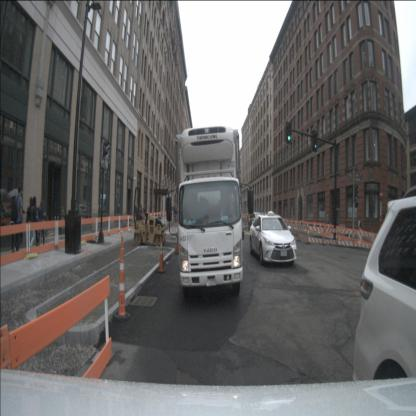human-pedestrian-adult: (11, 185, 24, 253), (10, 195, 21, 253), (26, 197, 37, 250), (37, 199, 46, 247), (31, 196, 39, 247), (358, 217, 363, 239), (326, 214, 330, 232)
movable_object-trafficcone: (113, 235, 131, 322), (158, 236, 166, 274), (305, 224, 311, 244), (296, 223, 302, 242), (335, 227, 340, 246), (175, 233, 179, 254), (322, 228, 326, 246), (352, 232, 356, 248)
vehicle-car: (353, 184, 416, 416), (247, 212, 298, 270), (249, 212, 272, 233)
vehicle-truck: (177, 126, 243, 296)
